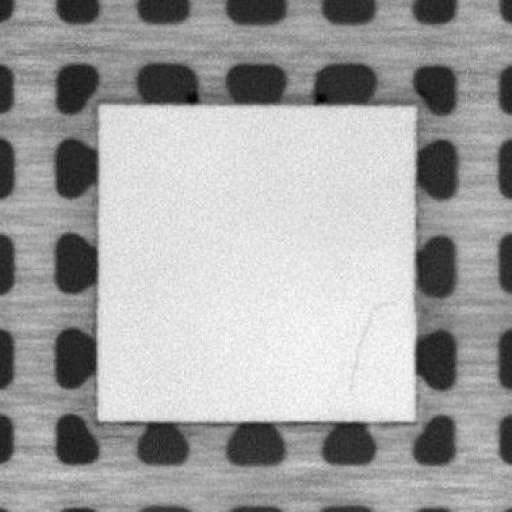DIE_CRACK: (346, 296, 398, 396)
